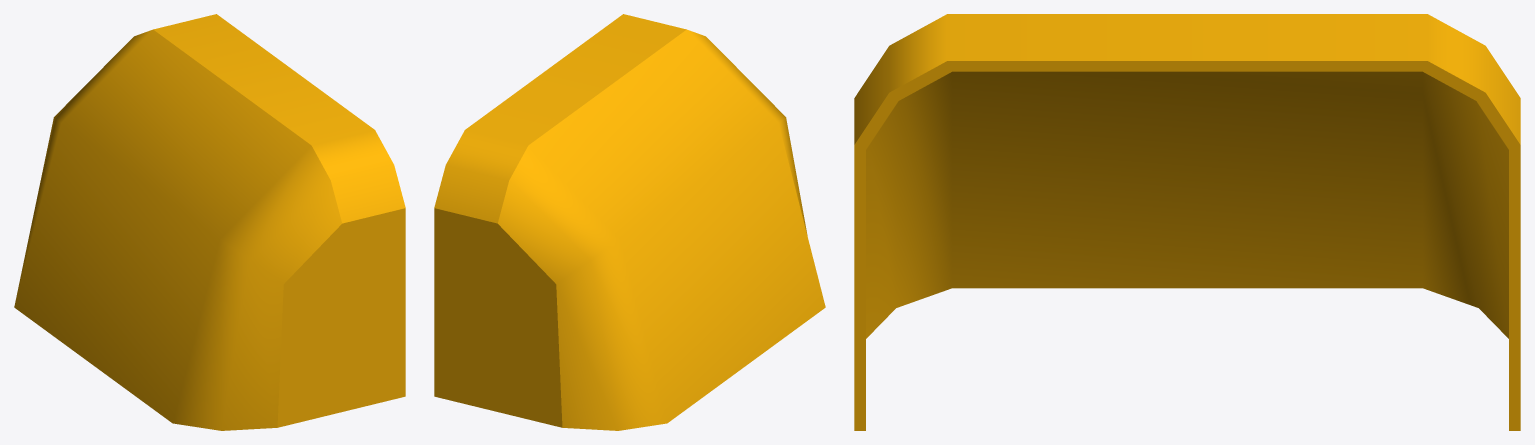
Rendered from SM_S_Gate.fbx.
The picture shows the model from 3 angles, left to right: view 1: azimuth 30°, elevation 25°; view 2: azimuth 150°, elevation 25°; view 3: azimuth 270°, elevation 25°; orthographic projection. The views are drawn at different scales.
Visible parts, largest first — view 1: SM_S_Gate; view 2: SM_S_Gate; view 3: SM_S_Gate.
Part boxes in pixels (x1,y1,x2,y2): SM_S_Gate: (14, 14, 405, 430); SM_S_Gate: (434, 14, 825, 430); SM_S_Gate: (854, 14, 1520, 430).
Size of the model in its own units: 279 by 321 by 524.
